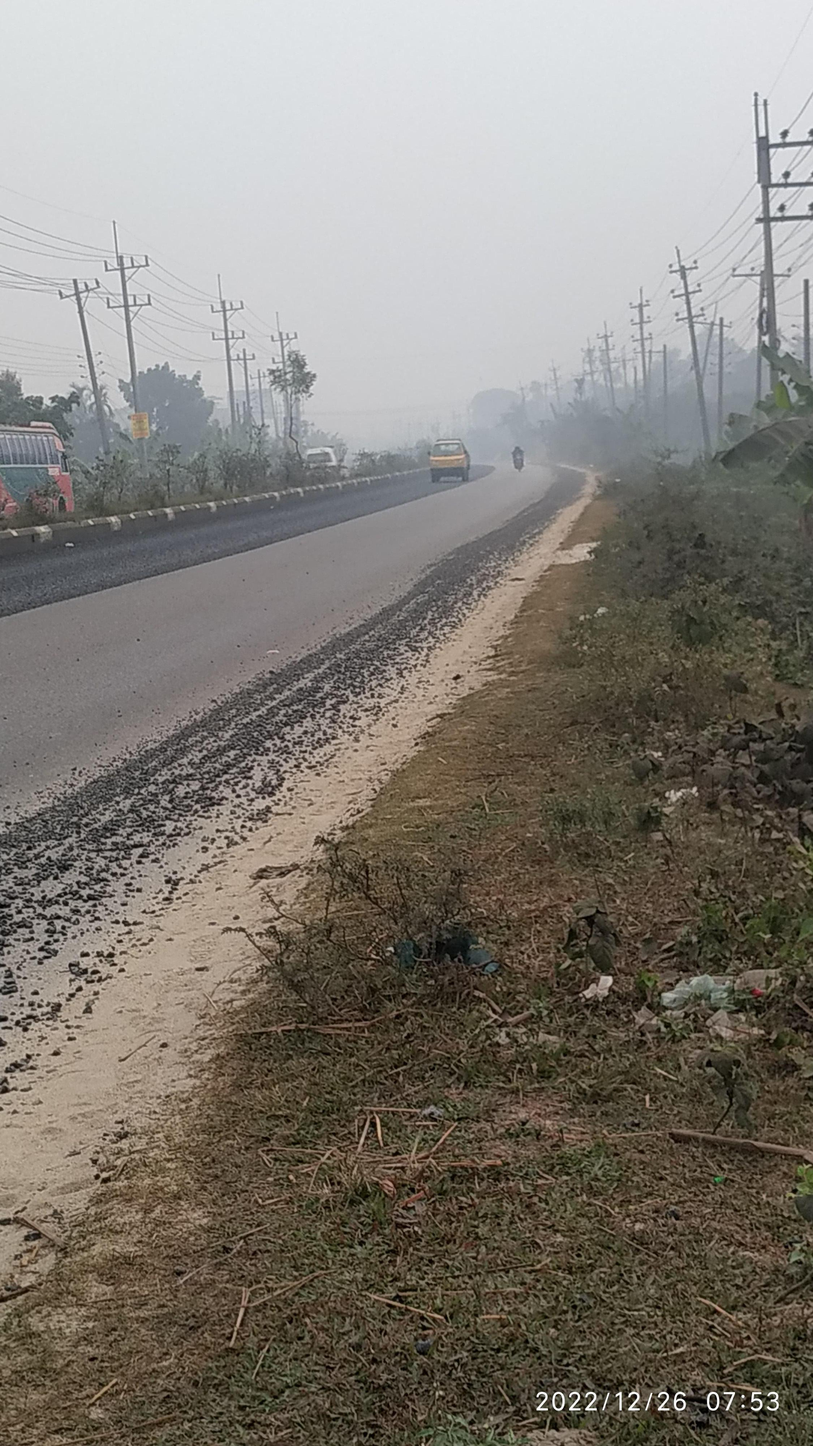Bike: (498, 437, 551, 485)
Bus: (4, 407, 92, 533)
Truck: (411, 428, 480, 501)
